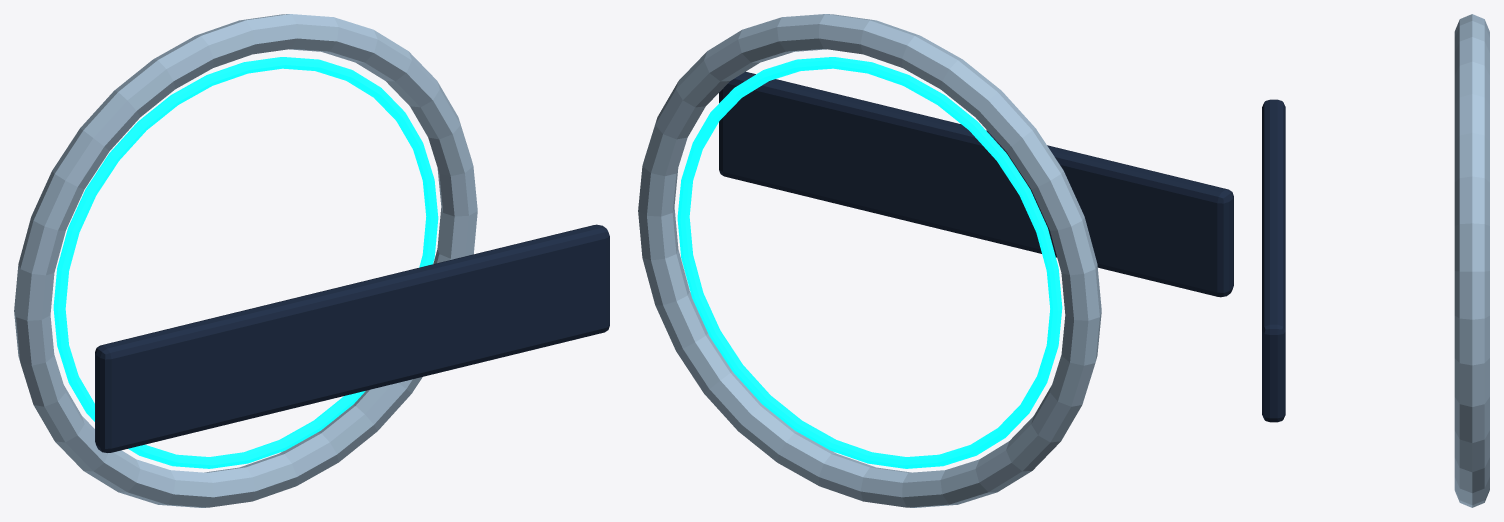
Rendered from NeonGoalPortal.fbx.
3 renders of one model, left to right at view 1: azimuth 30°, elevation 25°; view 2: azimuth 150°, elevation 25°; view 3: azimuth 270°, elevation 25°, orthographic. The views are drawn at different scales.
Parts seen in each view (by area): view 1: GoalBase, GoalRing, GoalGlow; view 2: GoalRing, GoalBase, GoalGlow; view 3: GoalRing, GoalBase.
Boxes of the visible parts, bbox=[...] form: GoalBase: bbox=[95, 224, 609, 452]; GoalRing: bbox=[14, 14, 477, 507]; GoalGlow: bbox=[53, 57, 438, 468]; GoalRing: bbox=[638, 14, 1101, 507]; GoalBase: bbox=[719, 71, 1233, 297]; GoalGlow: bbox=[677, 57, 1062, 468]; GoalRing: bbox=[1454, 14, 1489, 507]; GoalBase: bbox=[1262, 99, 1285, 422].
Bounding box in the file's own units: 5.6 × 5.06 × 2.33.
